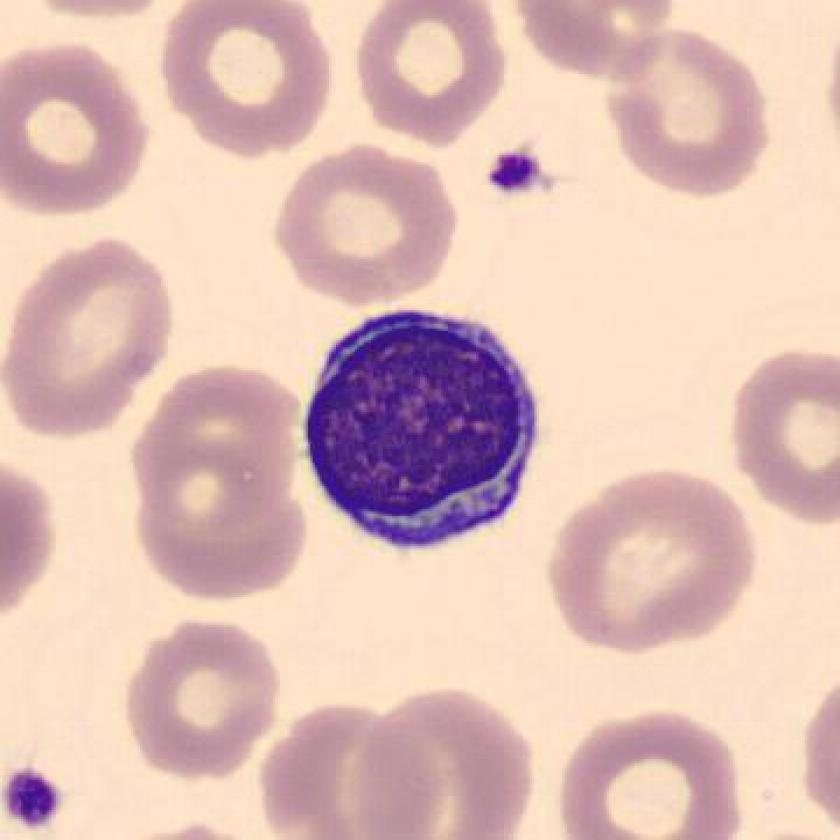lymphocyte: (281, 295, 556, 561)
platelets: (1, 761, 66, 833), (488, 145, 555, 203)
